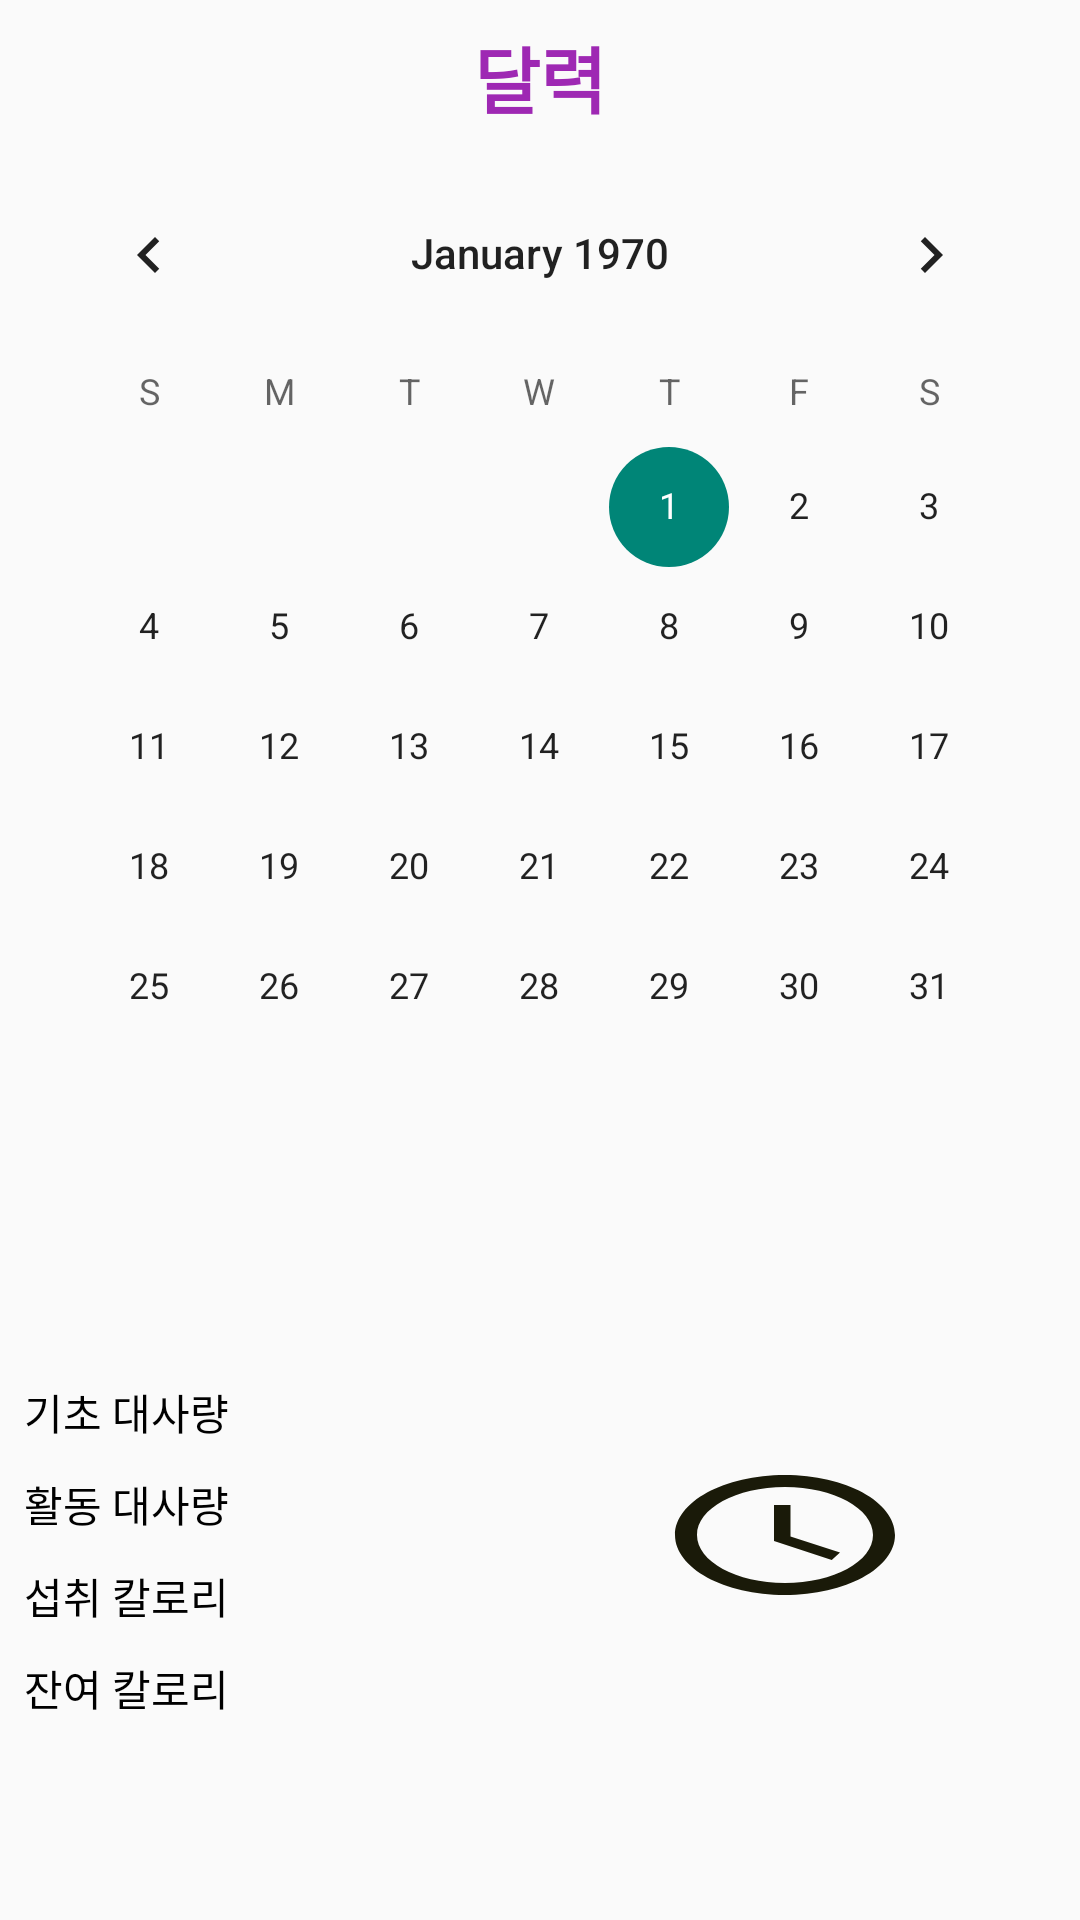

Named icons in this screenshot (1080x1920) and their centers, (x,y):
schedule: (785,1535)
